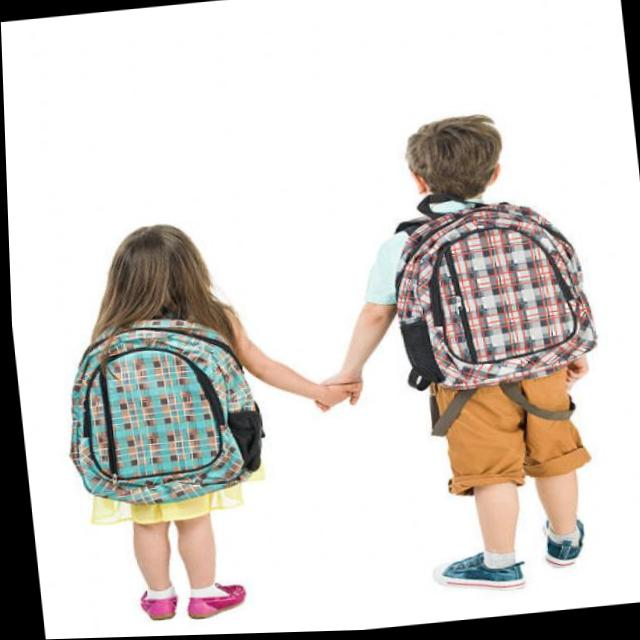no helmet: (89, 201, 232, 346), (367, 111, 531, 221)
